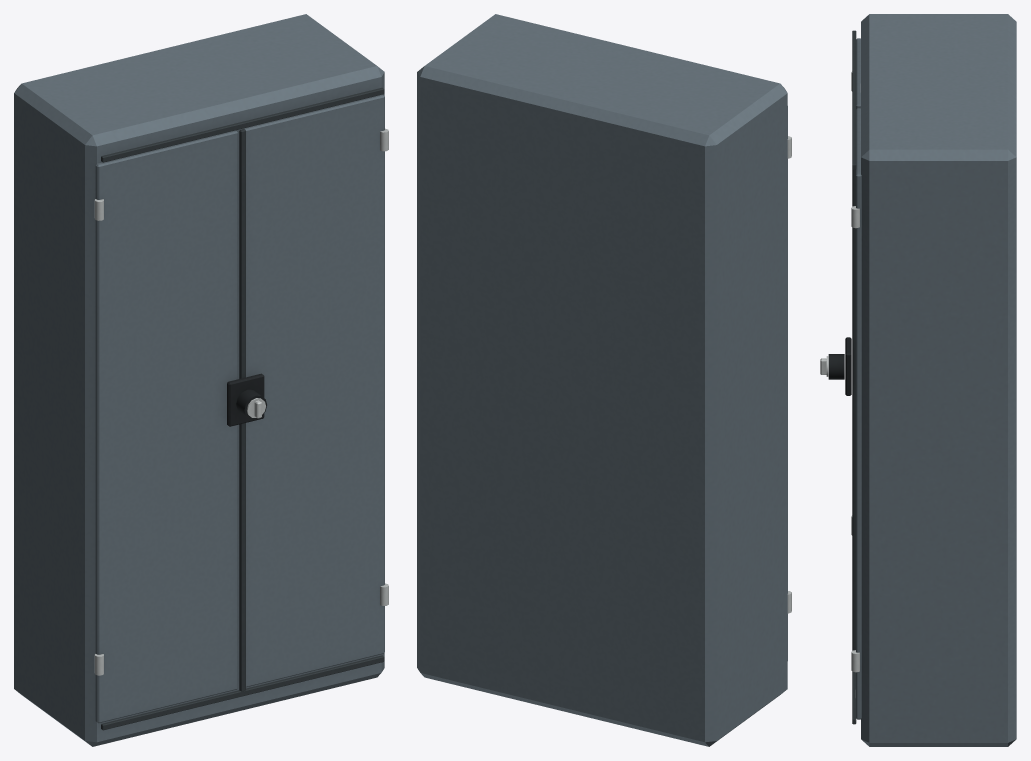
The model's file is school_cupboard.glb.
The picture shows the model from 3 angles, left to right: view 1: azimuth 30°, elevation 25°; view 2: azimuth 150°, elevation 25°; view 3: azimuth 270°, elevation 25°; orthographic projection. The views are drawn at different scales.
Parts seen in each view (by area): view 1: school_cupboard_Body; view 2: school_cupboard_Body; view 3: school_cupboard_Body.
Part boxes in pixels (bbox=[...]): school_cupboard_Body: bbox=[14, 14, 388, 746]; school_cupboard_Body: bbox=[417, 14, 791, 746]; school_cupboard_Body: bbox=[820, 14, 1016, 746].
Bounding box in the file's own units: 1 × 1.95 × 0.58.
Materials: 1 (1 with a texture image).
